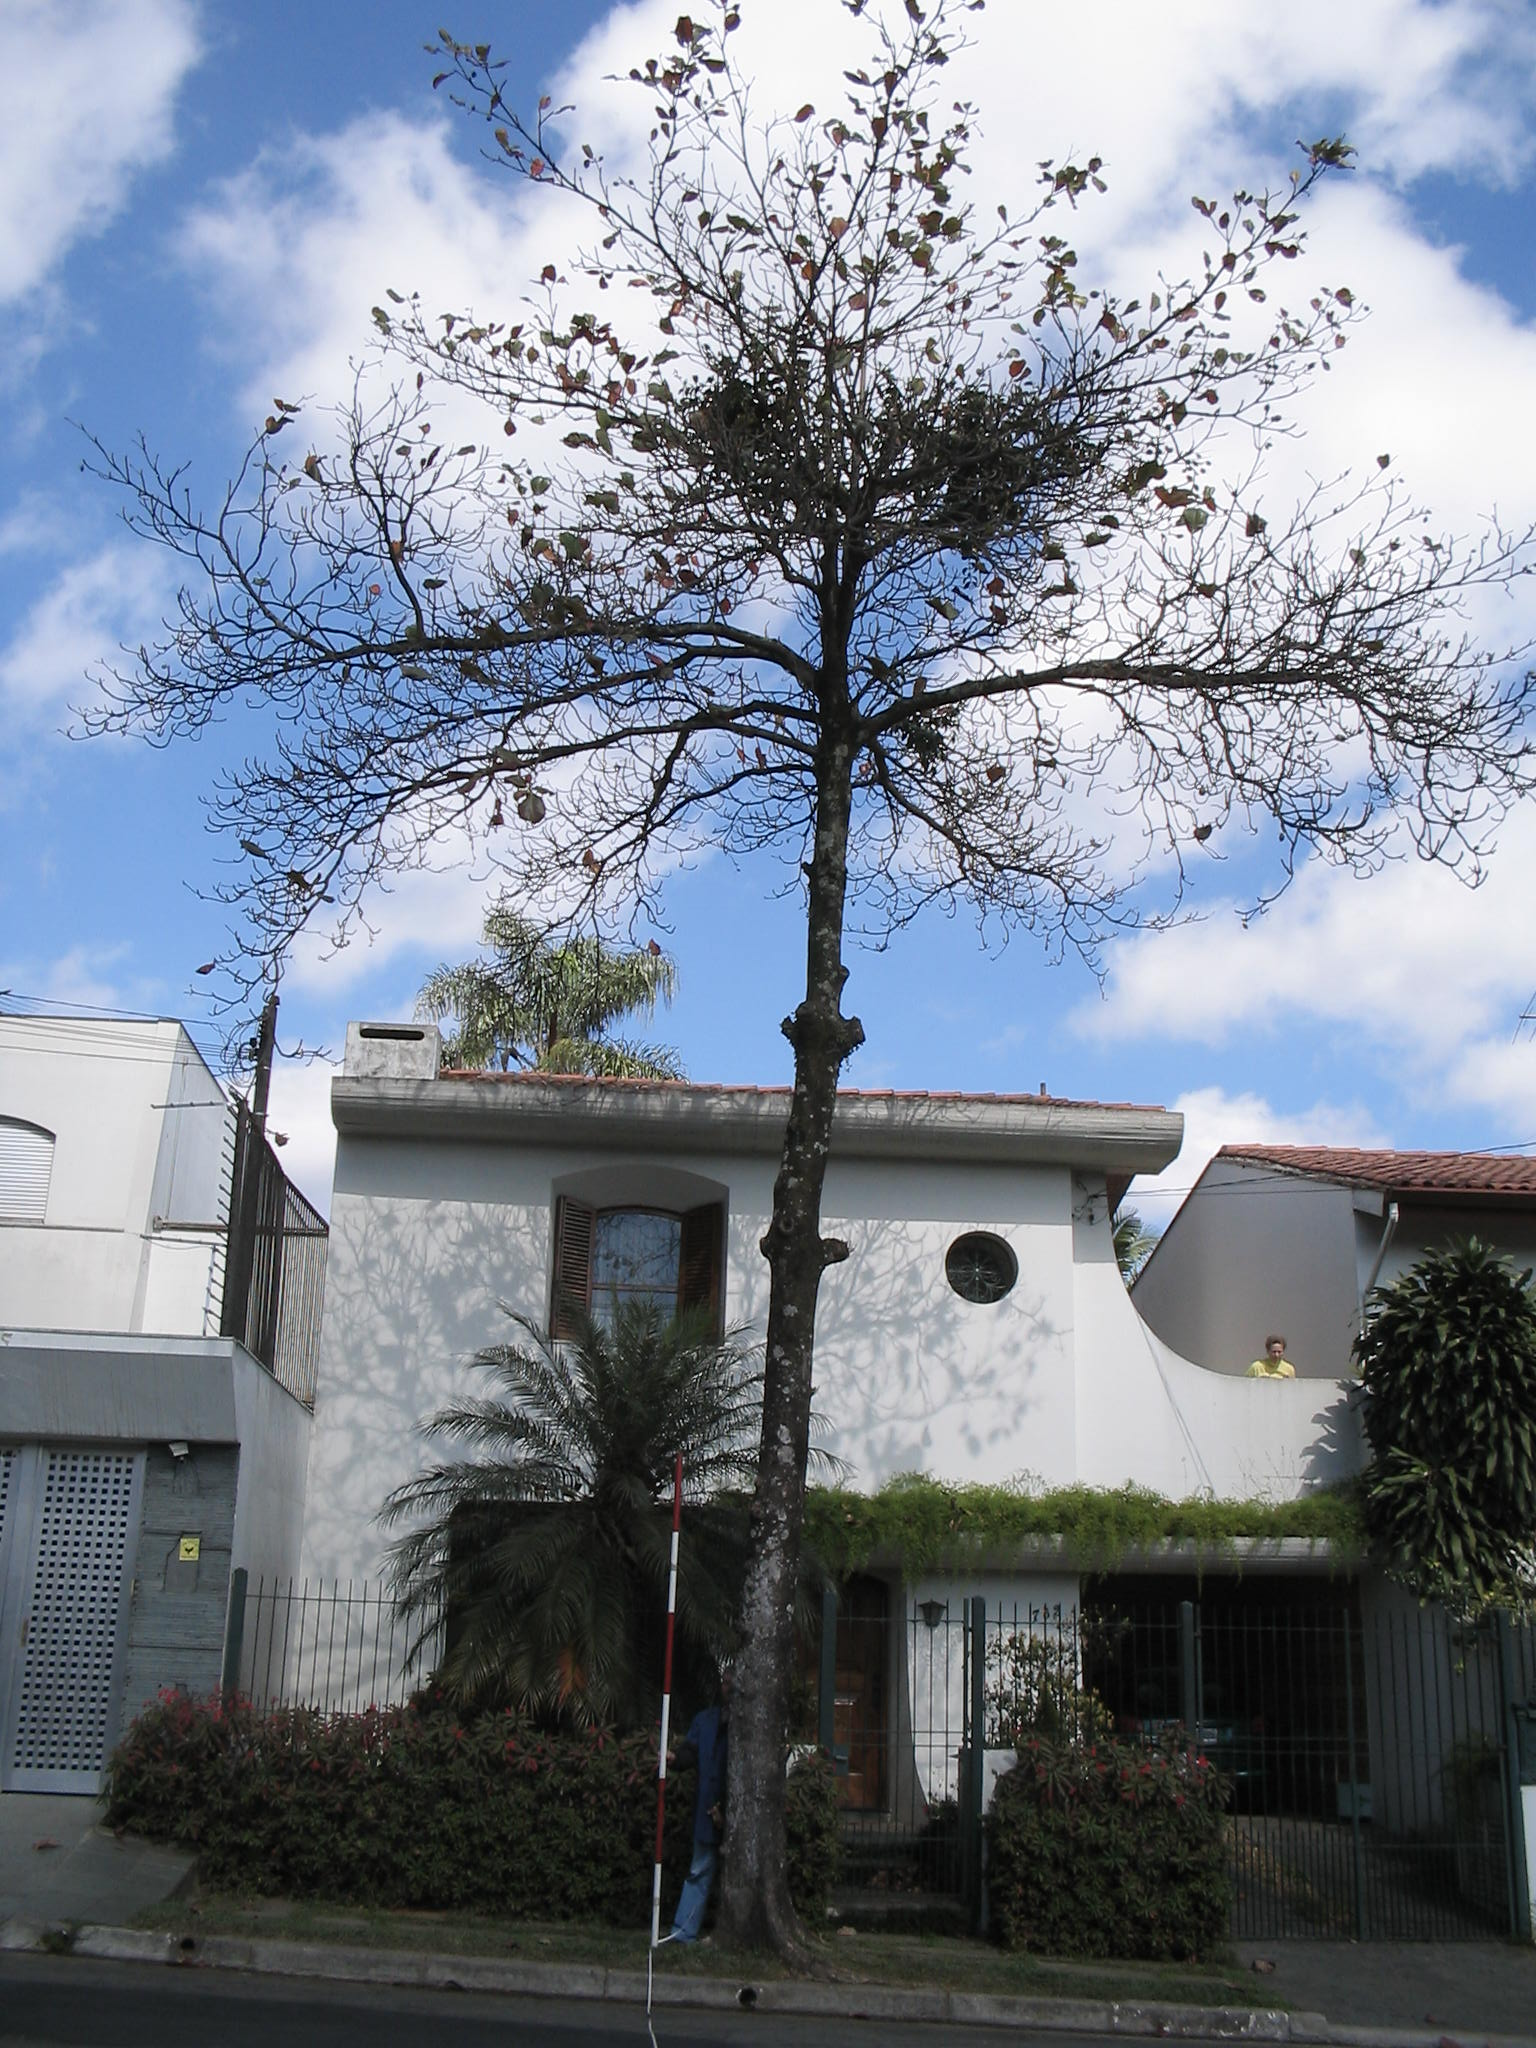crown: (82, 5, 1528, 1087)
stem: (686, 934, 915, 1963)
stick: (620, 1458, 708, 1945)
tree: (74, 2, 1533, 1967)
